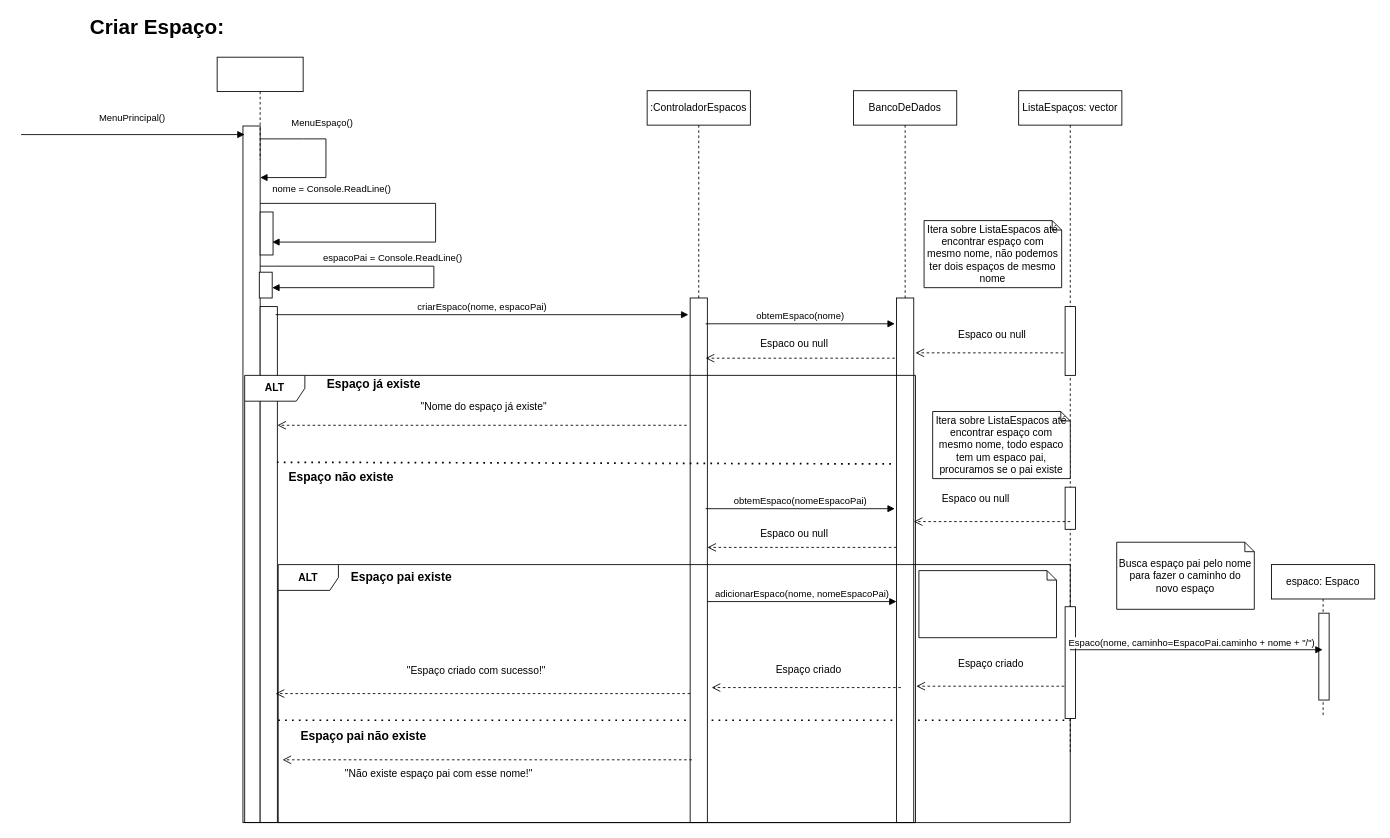
Image size: 1390x838. Some labels were removed from this diagram. Each missing label, with the centre of its shape:
":IntefaceUsuario" goes at (x=259, y=108).
"Adiciona espaço no final da lista" goes at (x=987, y=604).
